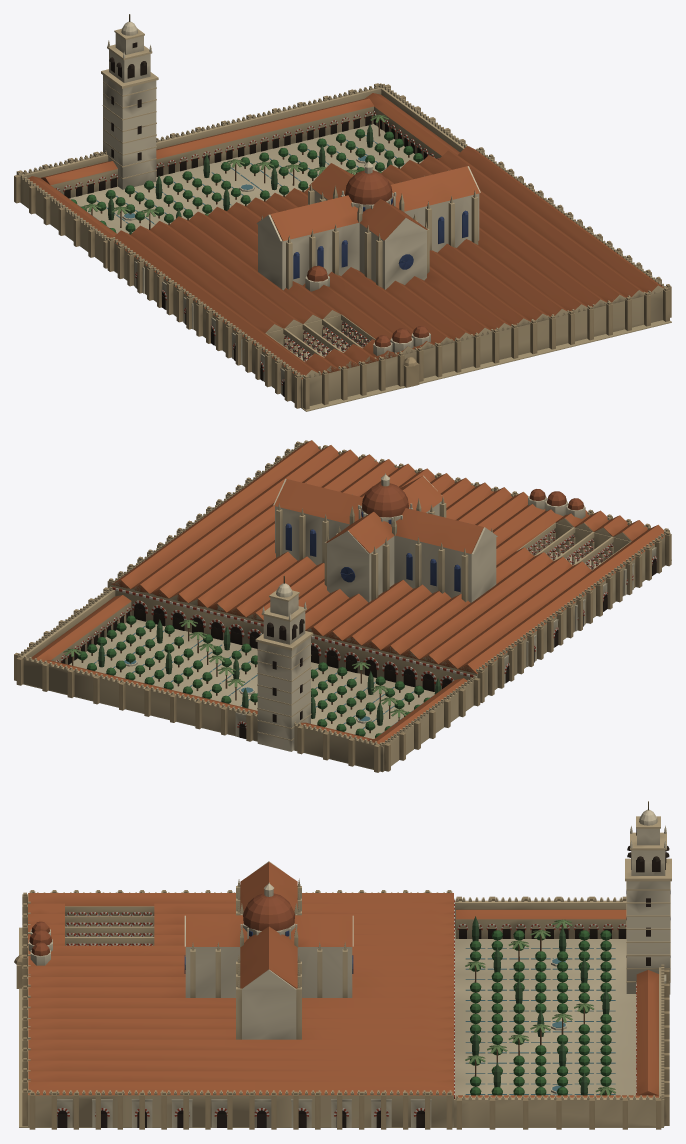
Rendered from mezquita-1600.glb.
3 views of the same model, one above another, from view 1: azimuth 30°, elevation 25°; view 2: azimuth 150°, elevation 25°; view 3: azimuth 270°, elevation 25° (orthographic). The views are drawn at different scales.
Parts seen in each view (by area): view 1: p1_hall, p2_cathedral, p0_ground; view 2: p1_hall, p2_cathedral, p0_ground; view 3: p1_hall, p2_cathedral, p0_ground.
Boxes of the visible parts, left/top/right/bottom form: p1_hall: left=14, top=83, right=671, bottom=409; p2_cathedral: left=101, top=14, right=480, bottom=355; p0_ground: left=20, top=202, right=671, bottom=411; p1_hall: left=14, top=440, right=671, bottom=772; p2_cathedral: left=255, top=473, right=585, bottom=751; p0_ground: left=23, top=551, right=671, bottom=772; p1_hall: left=14, top=890, right=669, bottom=1129; p2_cathedral: left=28, top=801, right=671, bottom=1039; p0_ground: left=19, top=927, right=663, bottom=1127.
Size of the model in its own units: 133 by 56.2 by 182.
